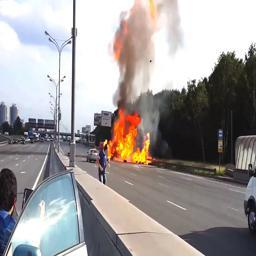fire: (104, 109, 151, 165)
